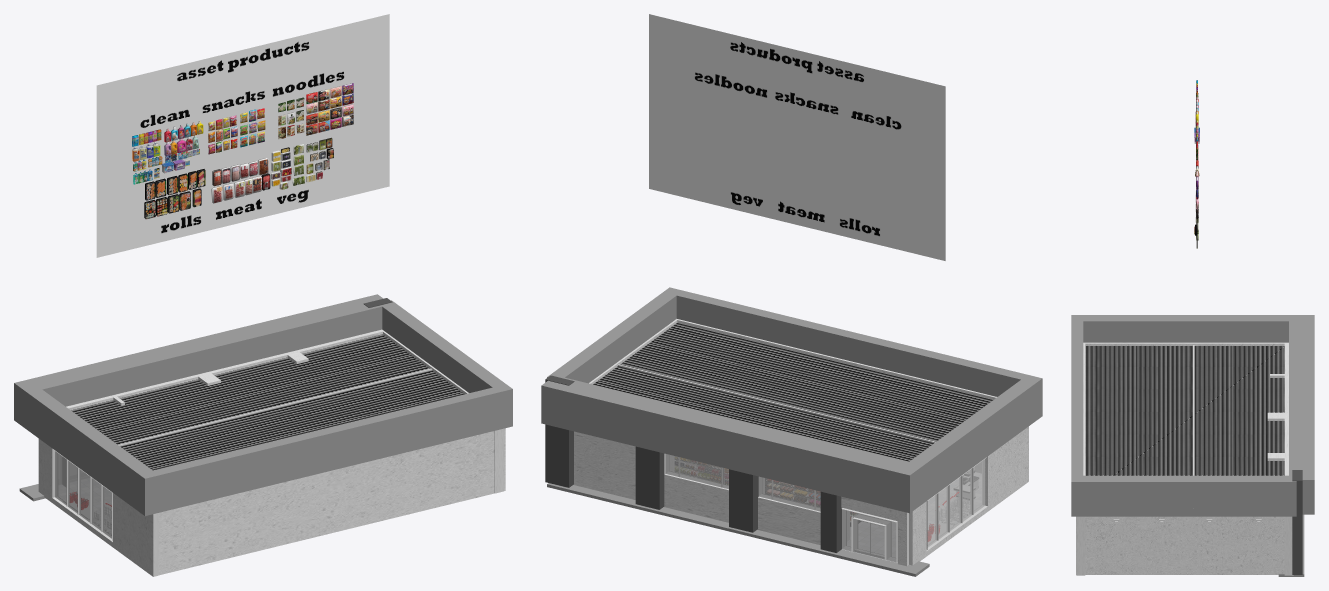
File: магазин.glb
3 views of the same model, side by side, from view 1: azimuth 30°, elevation 25°; view 2: azimuth 150°, elevation 25°; view 3: azimuth 270°, elevation 25° (orthographic). The views are drawn at different scales.
Visible parts, largest first — view 1: мб, Cube.3659, Plane, Cube.2058, Cube.3624, Cube.022, Cube.2057, Cube.053, Cube, Plane.001; view 2: мб, Cube.3659, Plane, Cube.2057, Cube.3663, Cube.3624, Cube.3660, Cube.022, Cube.3658, Plane.001, Cube.3656, Cube.055 (+4 smaller); view 3: Plane, Cube.3659, Cube.053, Cube.2057, Cube.3658, Cube.2058, Cube.3624.
Boxes of the visible parts, box(x1,y1,x2,y2) form: мб: box(96, 14, 389, 257); Cube.3659: box(14, 294, 512, 515); Plane: box(71, 334, 464, 470); Cube.2058: box(158, 428, 505, 575); Cube.3624: box(38, 439, 158, 576); Cube.022: box(55, 451, 111, 538); Cube.2057: box(66, 329, 383, 410); Cube.053: box(382, 330, 504, 493); Cube: box(118, 368, 432, 446); Plane.001: box(58, 478, 111, 534); мб: box(649, 14, 945, 260); Cube.3659: box(541, 287, 1042, 513); Plane: box(593, 322, 993, 461); Cube.2057: box(573, 431, 908, 566); Cube.3663: box(665, 454, 897, 562); Cube.3624: box(909, 426, 1028, 565); Cube.3660: box(547, 483, 929, 576); Cube.022: box(927, 459, 985, 547); Cube.3658: box(545, 375, 574, 487); Plane.001: box(842, 472, 981, 562); Cube.3656: box(635, 446, 664, 509); Cube.055: box(729, 469, 758, 532); Plane: box(1085, 346, 1284, 475); Cube.3659: box(1071, 315, 1314, 516); Cube.053: box(1076, 516, 1284, 574); Cube.2057: box(1267, 342, 1293, 575); Cube.3658: box(1292, 470, 1302, 574); Cube.2058: box(1076, 342, 1085, 575); Cube.3624: box(1085, 342, 1284, 345).
Size of the model in its own units: 29.47 by 33.57 by 18.14.
Materials: 30 (18 with a texture image).
